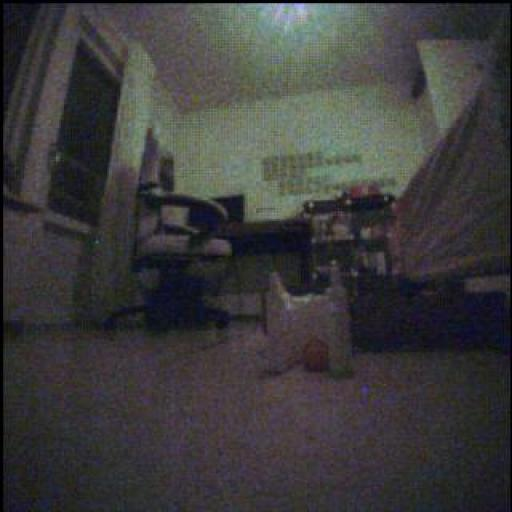basket: (302, 338, 334, 374)
